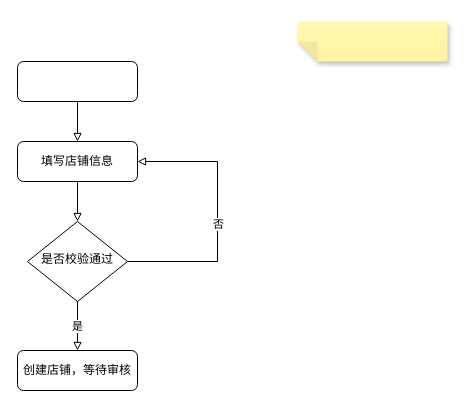
Image size: 471x408. Some labels were removed from this diagram. The centre of each missing label's shape, as x and y in pixels:
可创建多个店铺: (373,42)
开店: (77,81)
